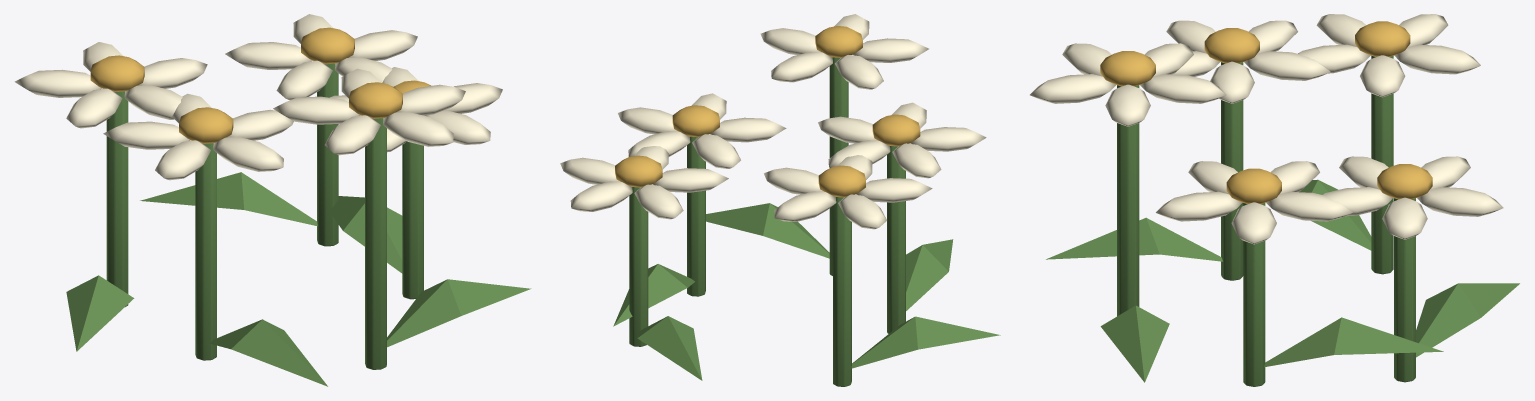
The model's file is prop_flower_patch.glb.
3 renders of one model, left to right at view 1: azimuth 30°, elevation 25°; view 2: azimuth 150°, elevation 25°; view 3: azimuth 270°, elevation 25°, orthographic. The views are drawn at different scales.
Visible parts, largest first — view 1: flower_stem, petal, flower_center; view 2: petal, flower_stem, flower_center; view 3: petal, flower_stem, flower_center.
Boxes of the visible parts, x1,y1,x2,y2 form: flower_stem: (66, 63, 531, 386); petal: (14, 14, 502, 180); flower_center: (90, 27, 431, 143); petal: (560, 14, 986, 229); flower_stem: (613, 57, 1000, 386); flower_center: (615, 26, 920, 197); petal: (1030, 14, 1503, 244); flower_stem: (1046, 55, 1519, 386); flower_center: (1100, 21, 1432, 204).
Bounding box in the file's own units: 0.3939 × 0.243 × 0.3879.
